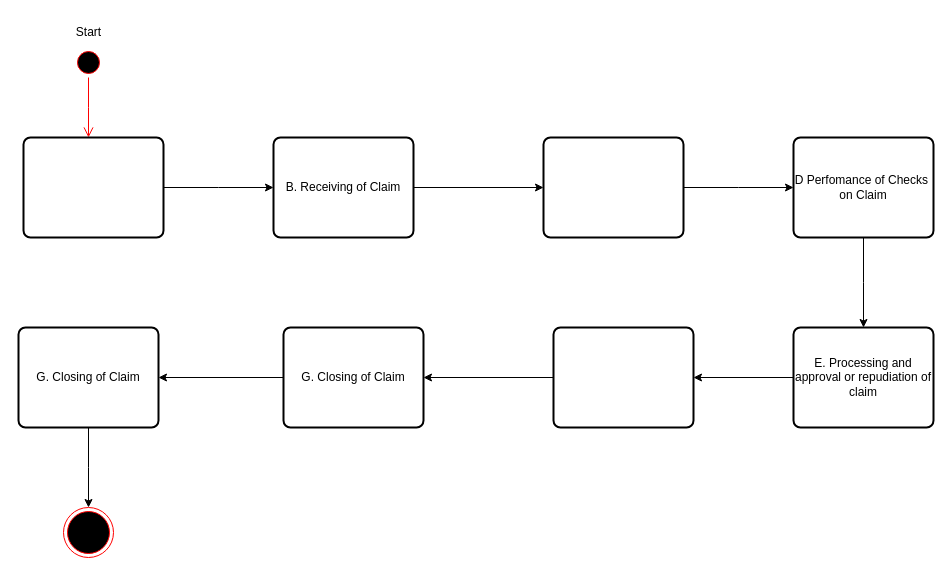
Image size: 951x575. Some labels were removed from this diagram. Each missing label, with the centre of its shape:
A. Claim Submission: point (93, 187)
C. Claim Initiation: point (613, 187)
F. Payment of Claim: point (623, 377)
